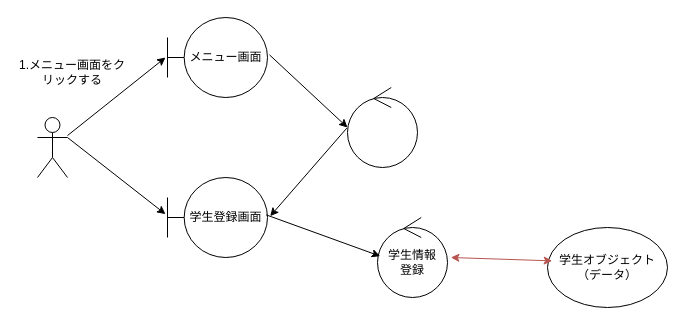
Image size: 685x325. Some labels were removed from this diagram. Here are the shapes that lost their labels. From the top down, the centre of each, then its label:
At pixel 52 147: "学生".
At pixel 382 127: "表示（する）".
